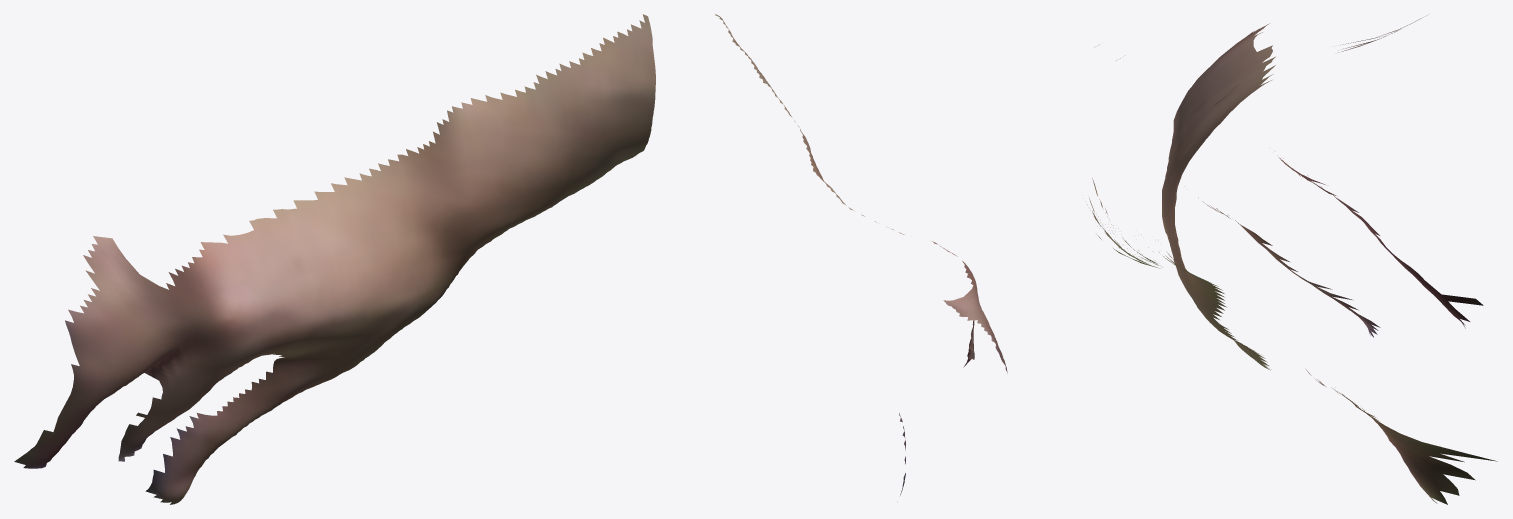
3 renders of one model, left to right at view 1: azimuth 30°, elevation 25°; view 2: azimuth 150°, elevation 25°; view 3: azimuth 270°, elevation 25°, orthographic. The views are drawn at different scales.
Parts seen in each view (by area): view 1: world; view 2: world; view 3: world.
Boxes of the visible parts, x1,y1,x2,y2 form: world: (14, 14, 655, 504); world: (715, 14, 1007, 495); world: (1085, 15, 1496, 504).
Size of the model in its own units: 0.1969 by 0.183 by 0.1061.
1 material, 1 textured.
